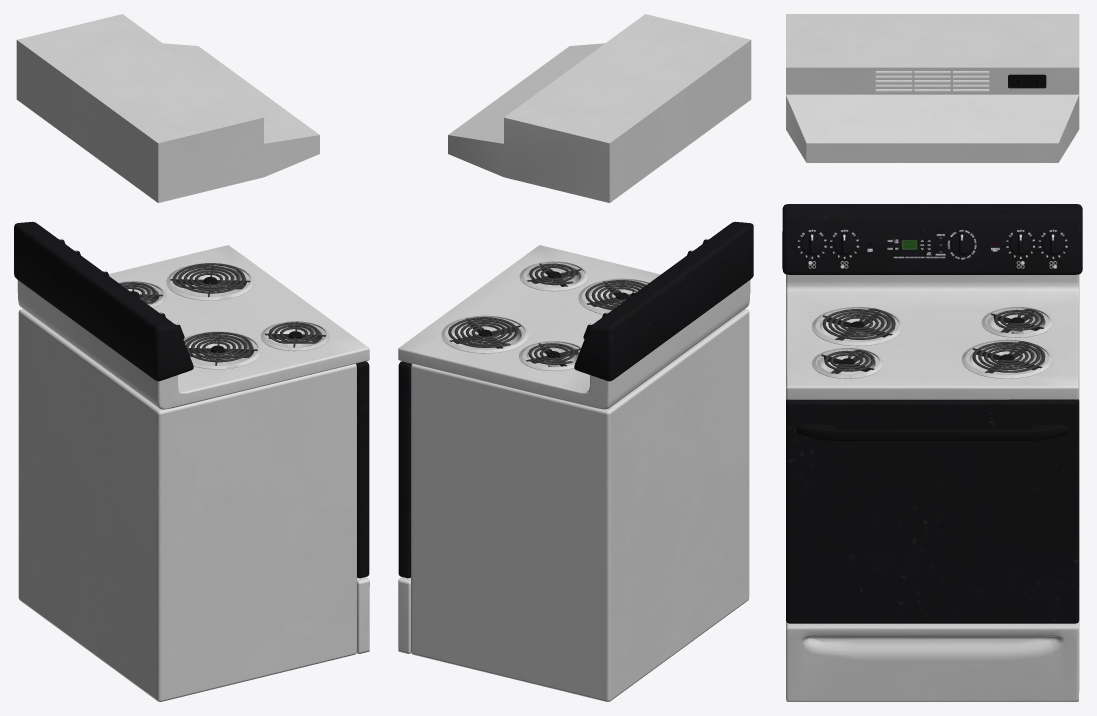
File: stove-lite.glb
3 views of the same model, side by side, from view 1: azimuth 30°, elevation 25°; view 2: azimuth 150°, elevation 25°; view 3: azimuth 270°, elevation 25° (orthographic). The views are drawn at different scales.
Parts seen in each view (by area): view 1: Stove_StoveBody_0, Stove_StoveControls_0; view 2: Stove_StoveBody_0, Stove_StoveControls_0; view 3: Stove_StoveControls_0, Stove_StoveBody_0.
Boxes of the visible parts, bbox=[...] form: Stove_StoveBody_0: bbox=[18, 290, 369, 701]; Stove_StoveControls_0: bbox=[14, 14, 369, 409]; Stove_StoveBody_0: bbox=[398, 282, 749, 701]; Stove_StoveControls_0: bbox=[398, 14, 753, 409]; Stove_StoveControls_0: bbox=[782, 14, 1082, 399]; Stove_StoveBody_0: bbox=[786, 71, 1079, 701].
Size of the model in its own units: 0.7106 by 1.67 by 0.7798.
2 materials, 2 textured.
